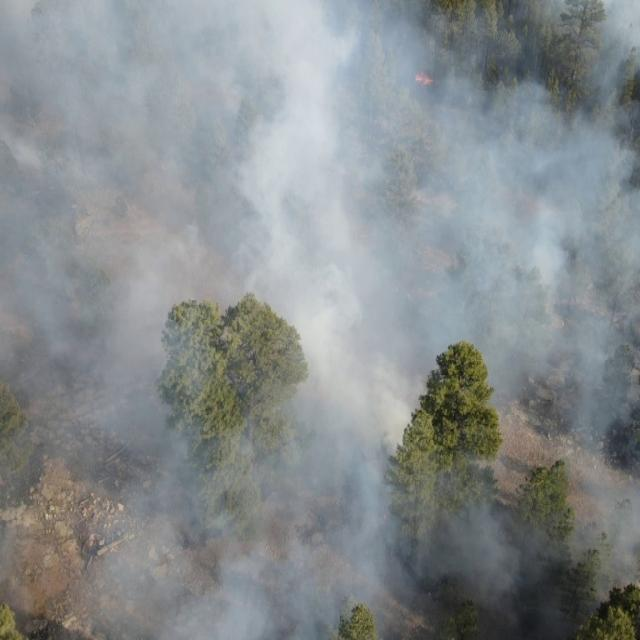fire: (413, 68, 436, 88)
smoke: (0, 0, 640, 640)
